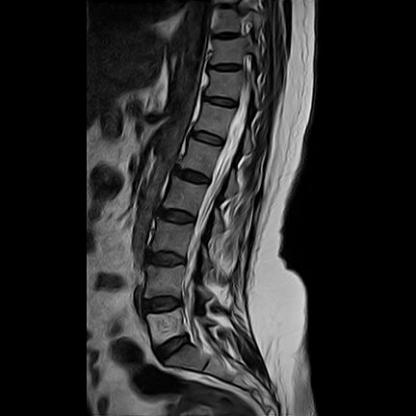Degenerative Disc Diseaserotation: (168, 165, 219, 187)
Disc Bulgerotation: (137, 291, 187, 320)
